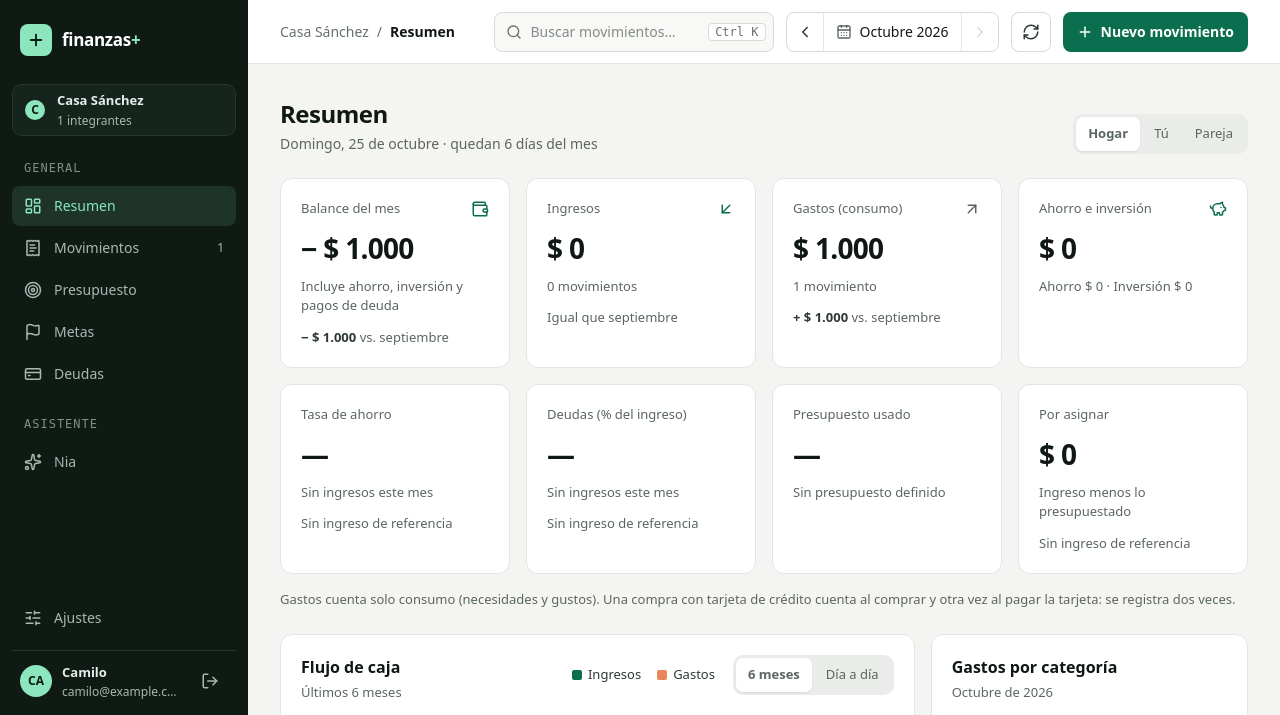
it: App debts section › creates a debt for the household and refreshes the month data afterwards
The width and height of the screenshot is (1280, 715).
Check: the heading "Resumen" is shown, box [280,97,388,130]
Click the button "Deudas": x=124, y=374 [12,354,236,394]
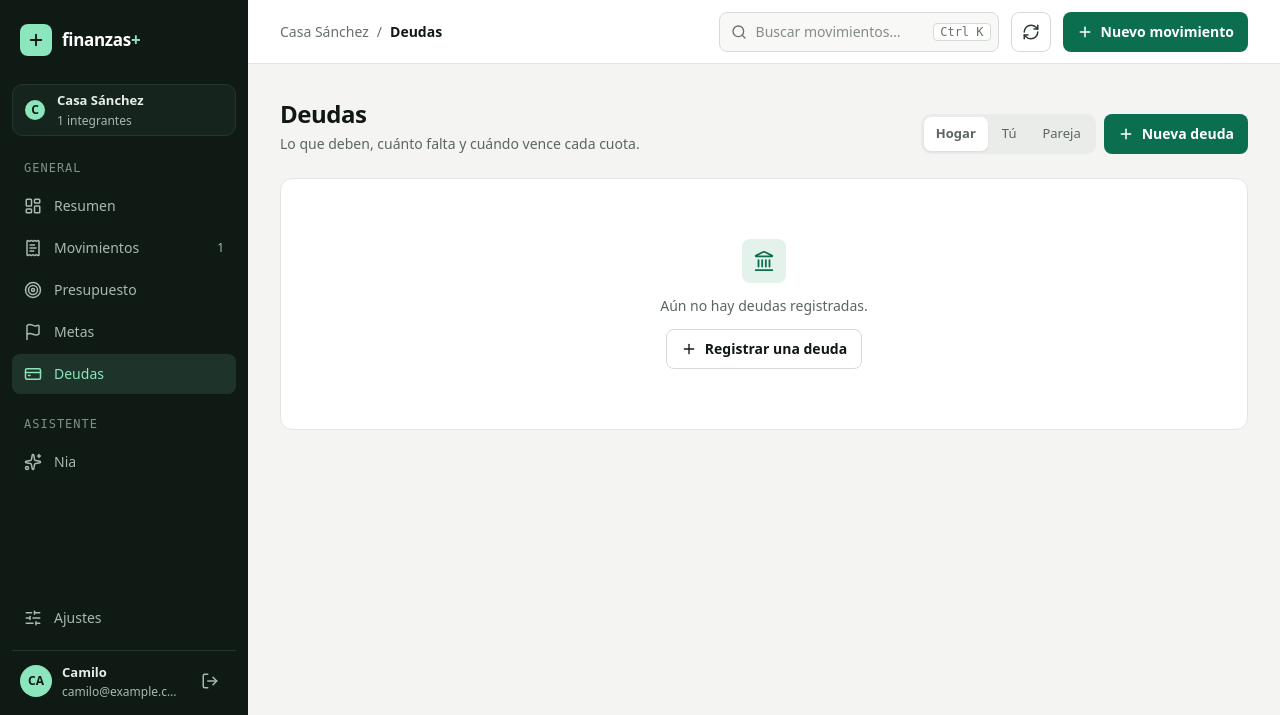
Click the button "Registrar una deuda": x=764, y=349 [666,329,862,369]
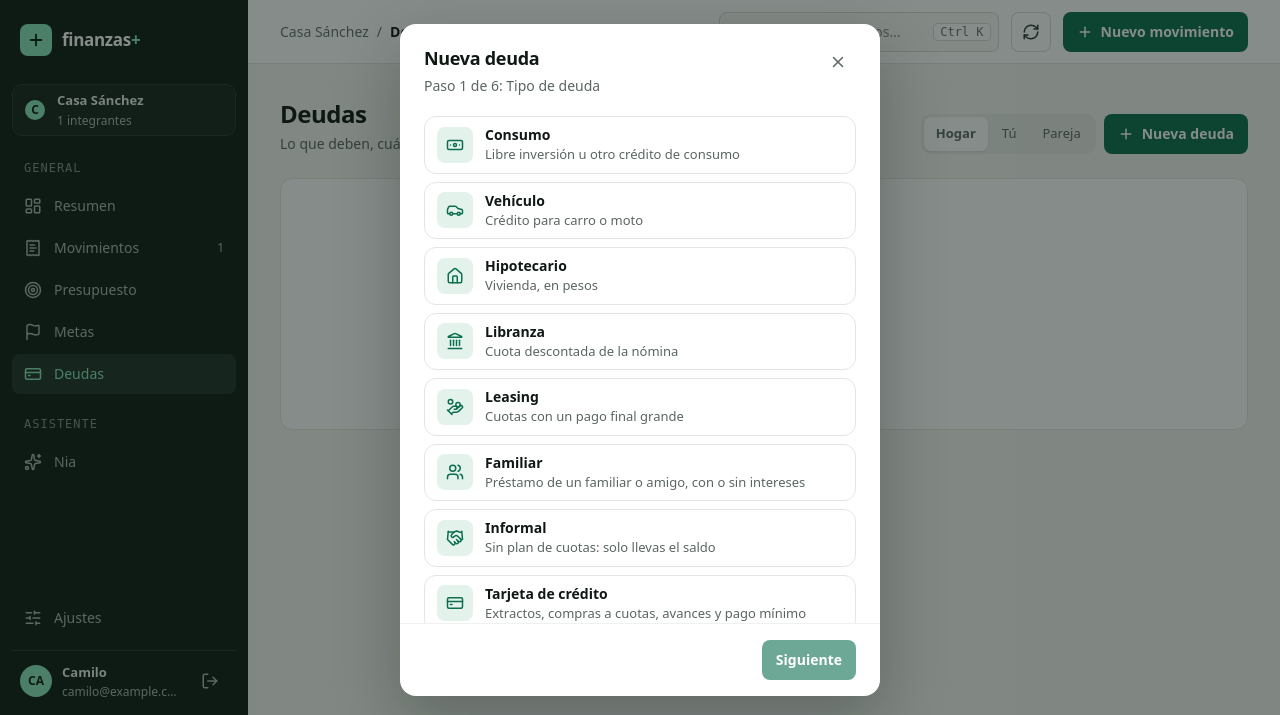
Click the button "Informal Sin plan de cuotas: solo llevas el saldo": x=640, y=538 [424,509,856,566]
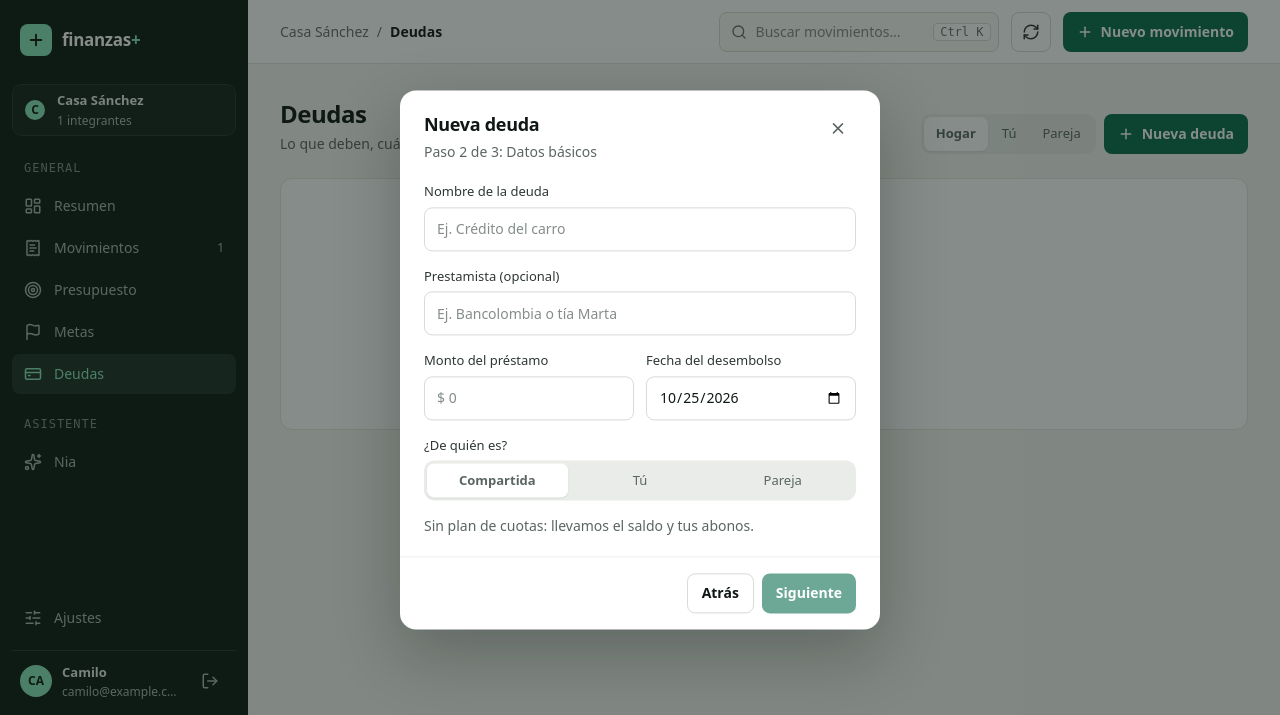
In the field labelled "Nombre de la deuda": x=640, y=229 [424,207,856,251], type "Préstamo de papá"
In the number field labelled "Monto del préstamo": x=529, y=398 [424,376,634,420], type "500000"
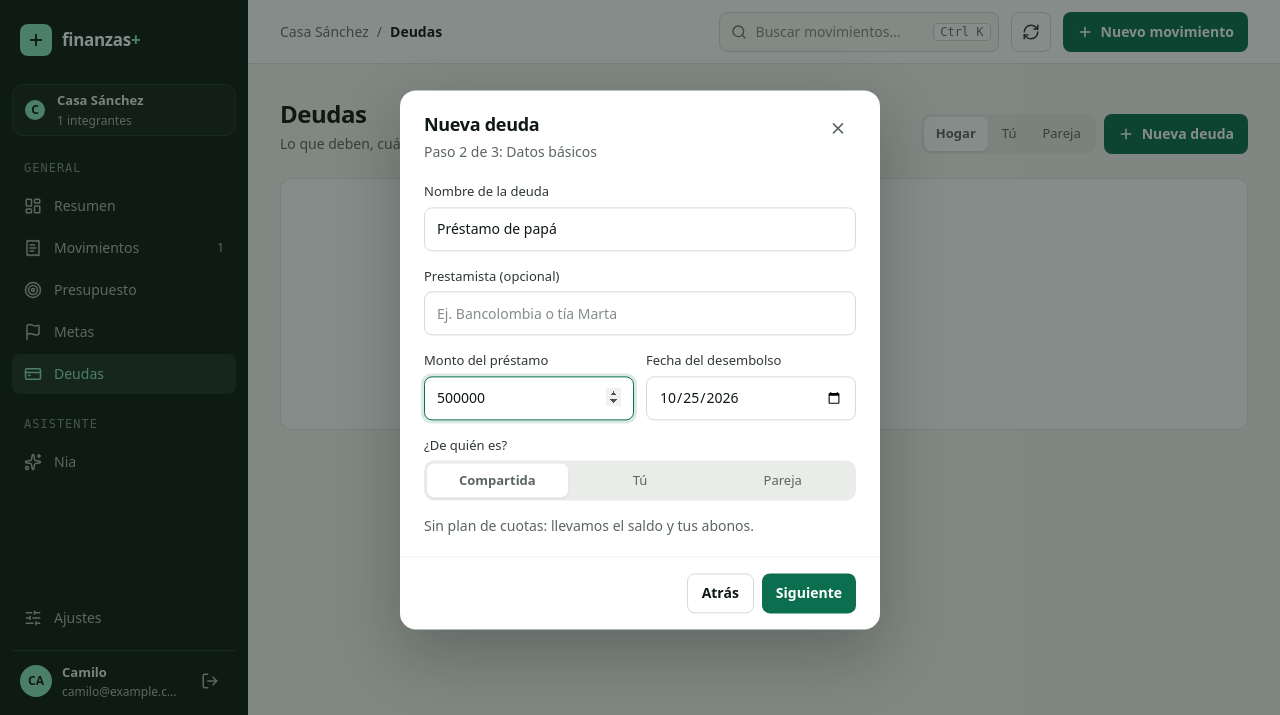
Click the button "Siguiente": x=809, y=594 [762,574,856,614]
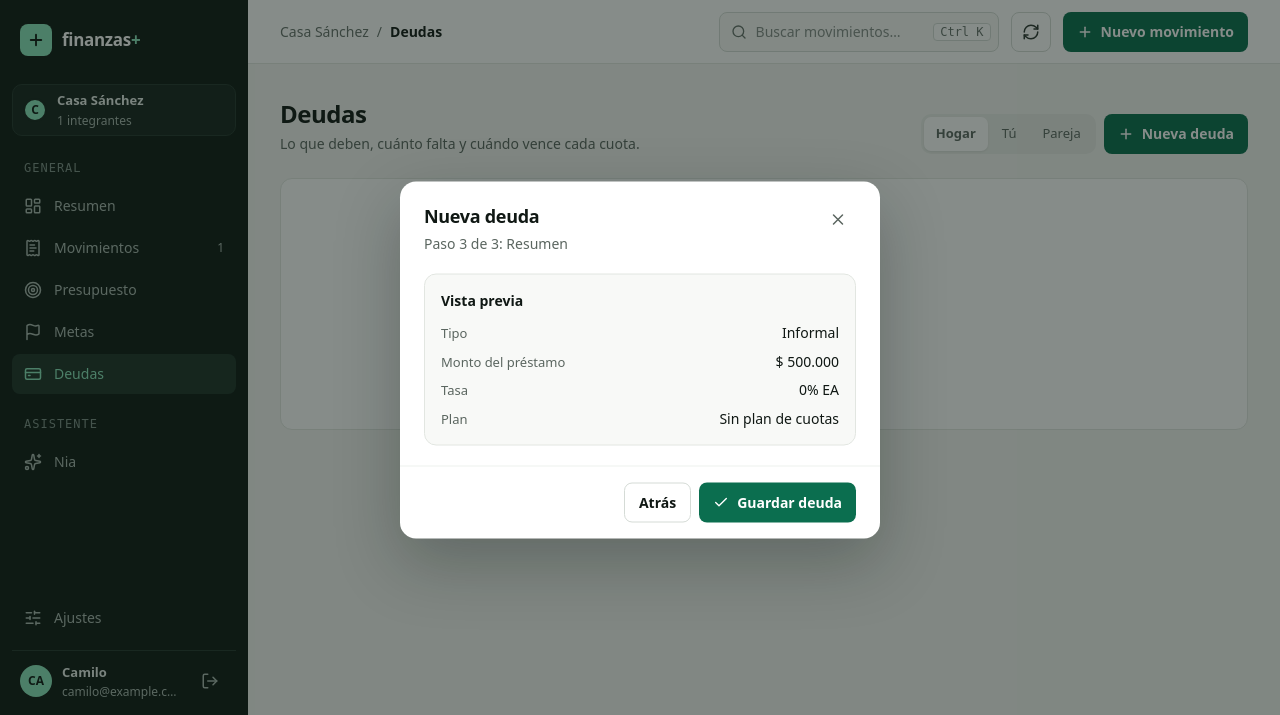
Click the button "Guardar deuda": x=778, y=502 [699,482,856,522]
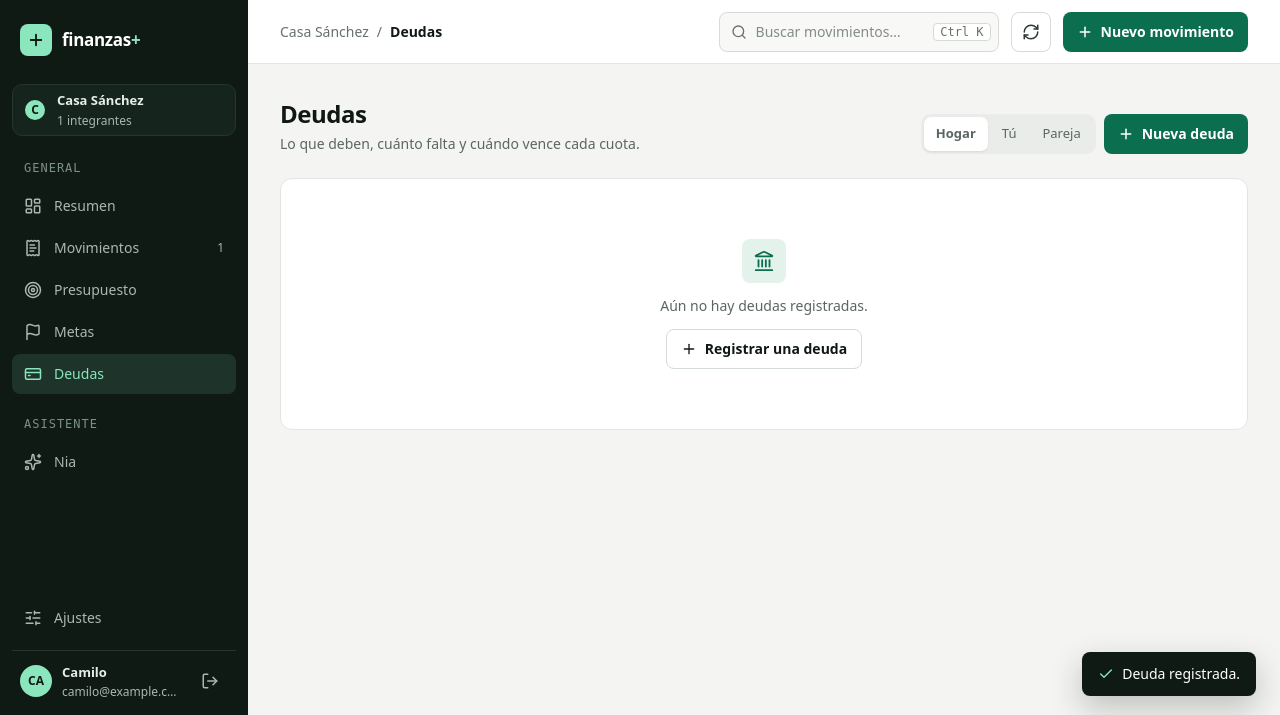
Check: the text "Deuda registrada." is shown, box [1082,652,1256,696]
